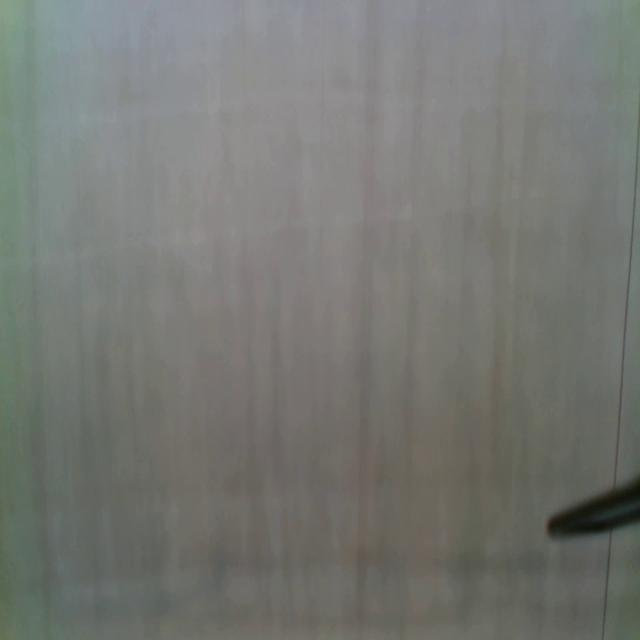color bleeding: (101, 524, 545, 592)
crease: (614, 110, 640, 479), (601, 530, 614, 640)
